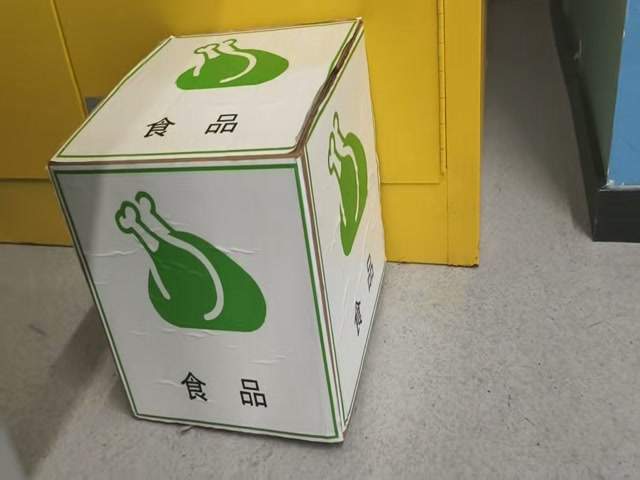Cube_food: (49, 20, 364, 170)
